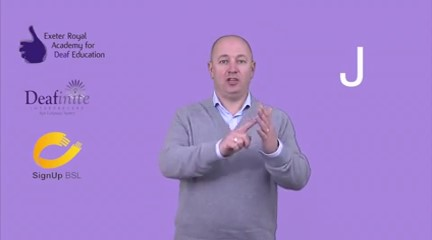J: (222, 104, 281, 154)
